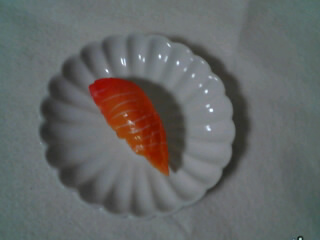002_classes: (77, 73, 175, 179)
